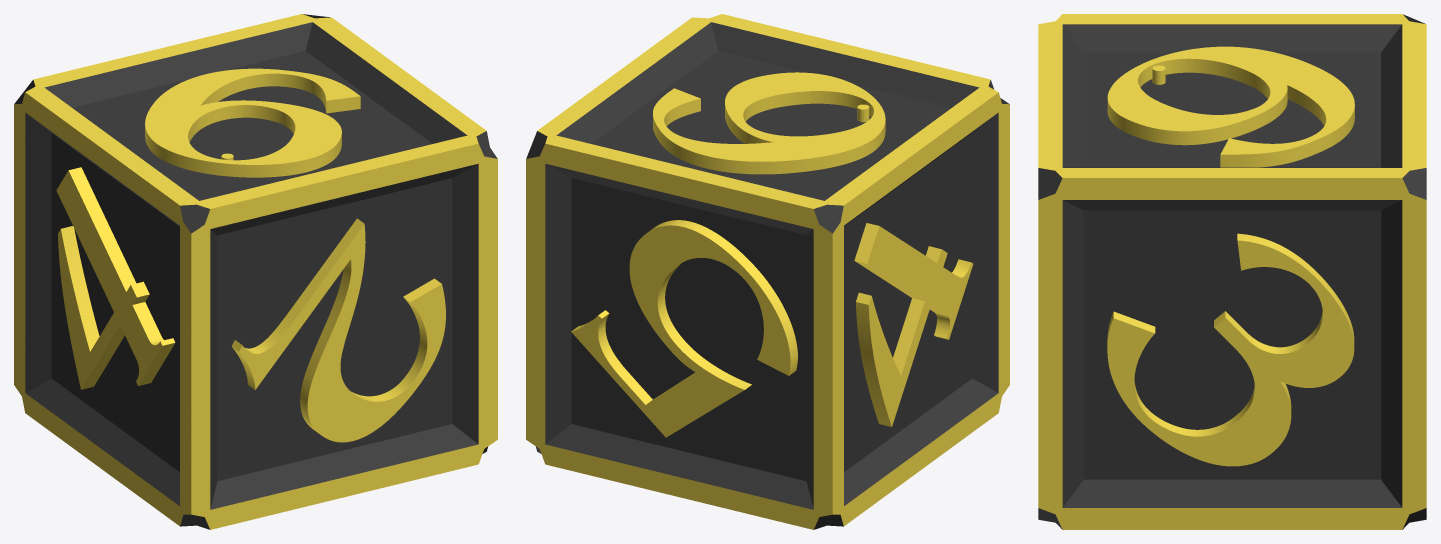
3 views of the same model, side by side, from view 1: azimuth 30°, elevation 25°; view 2: azimuth 150°, elevation 25°; view 3: azimuth 270°, elevation 25° (orthographic). The views are drawn at different scales.
Parts seen in each view (by area): view 1: d6, d6_face_2, d6_face_4, d6_face_6; view 2: d6, d6_face_5, d6_face_4, d6_face_6; view 3: d6, d6_face_3, d6_face_6.
Part boxes in pixels (x1,y1,x2,y2): d6: (14, 14, 497, 529); d6_face_2: (191, 143, 497, 529); d6_face_4: (14, 92, 191, 525); d6_face_6: (25, 14, 486, 208); d6: (526, 22, 1009, 529); d6_face_5: (526, 143, 832, 529); d6_face_4: (832, 92, 1009, 525); d6_face_6: (537, 14, 998, 208); d6: (1038, 14, 1426, 529); d6_face_3: (1038, 178, 1426, 529); d6_face_6: (1038, 14, 1426, 177).
Size of the model in its own units: 1.37 by 1.37 by 1.37.
